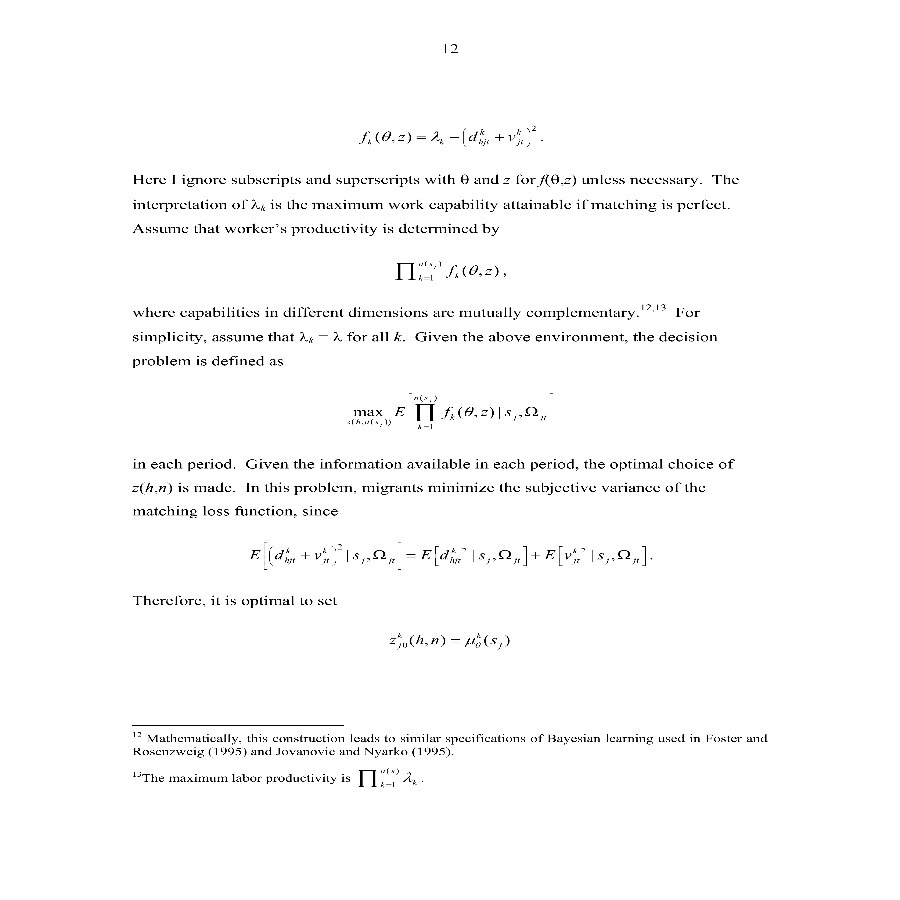eq: (246, 533, 649, 576), (347, 390, 547, 437), (355, 122, 539, 149), (393, 256, 501, 287), (387, 629, 515, 654)
